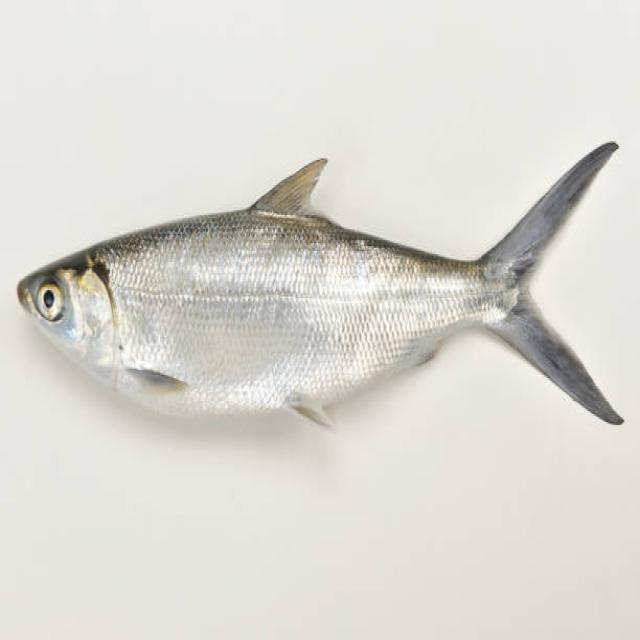Bangus: (7, 114, 640, 455)
